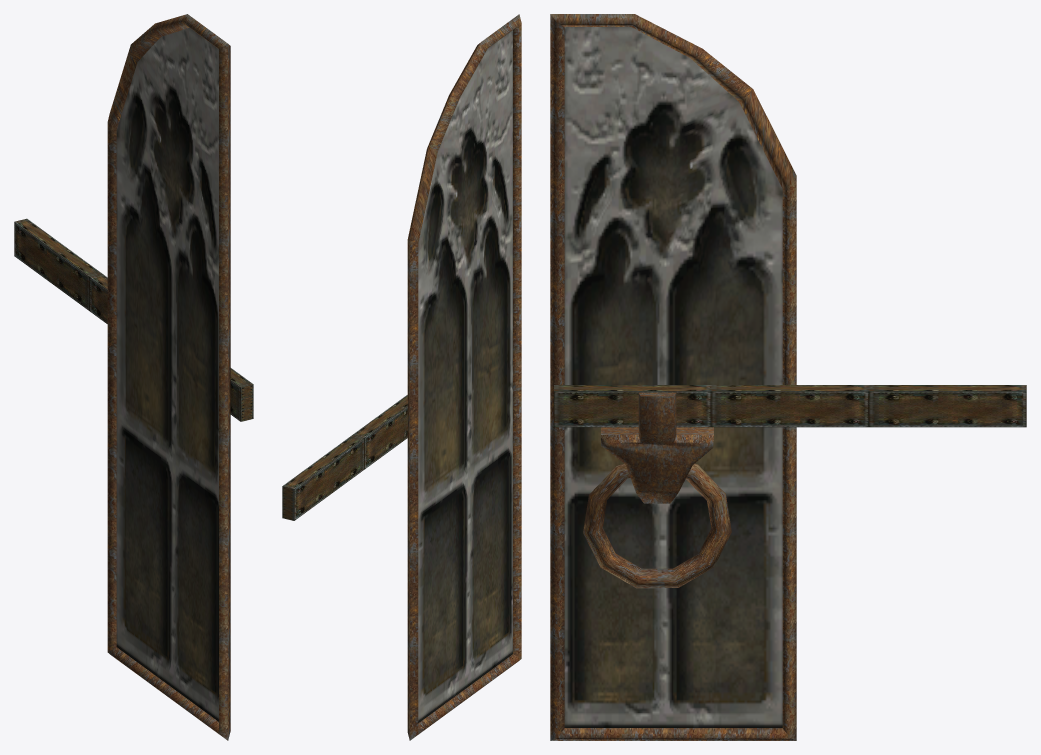
Rendered from EREBOR_DOOR_01.fbx.
3 views of the same model, side by side, from view 1: azimuth 30°, elevation 25°; view 2: azimuth 150°, elevation 25°; view 3: azimuth 270°, elevation 25° (orthographic). The views are drawn at different scales.
Parts seen in each view (by area): view 1: EREBOR_DOOR_01; view 2: EREBOR_DOOR_01; view 3: EREBOR_DOOR_01.
Boxes of the visible parts, left/top/right/bottom form: EREBOR_DOOR_01: left=14, top=14, right=253, bottom=740; EREBOR_DOOR_01: left=282, top=14, right=521, bottom=740; EREBOR_DOOR_01: left=550, top=14, right=1026, bottom=740.
Bounding box in the file's own units: 4426 × 66130 × 39254.
3 materials, 3 textured.
